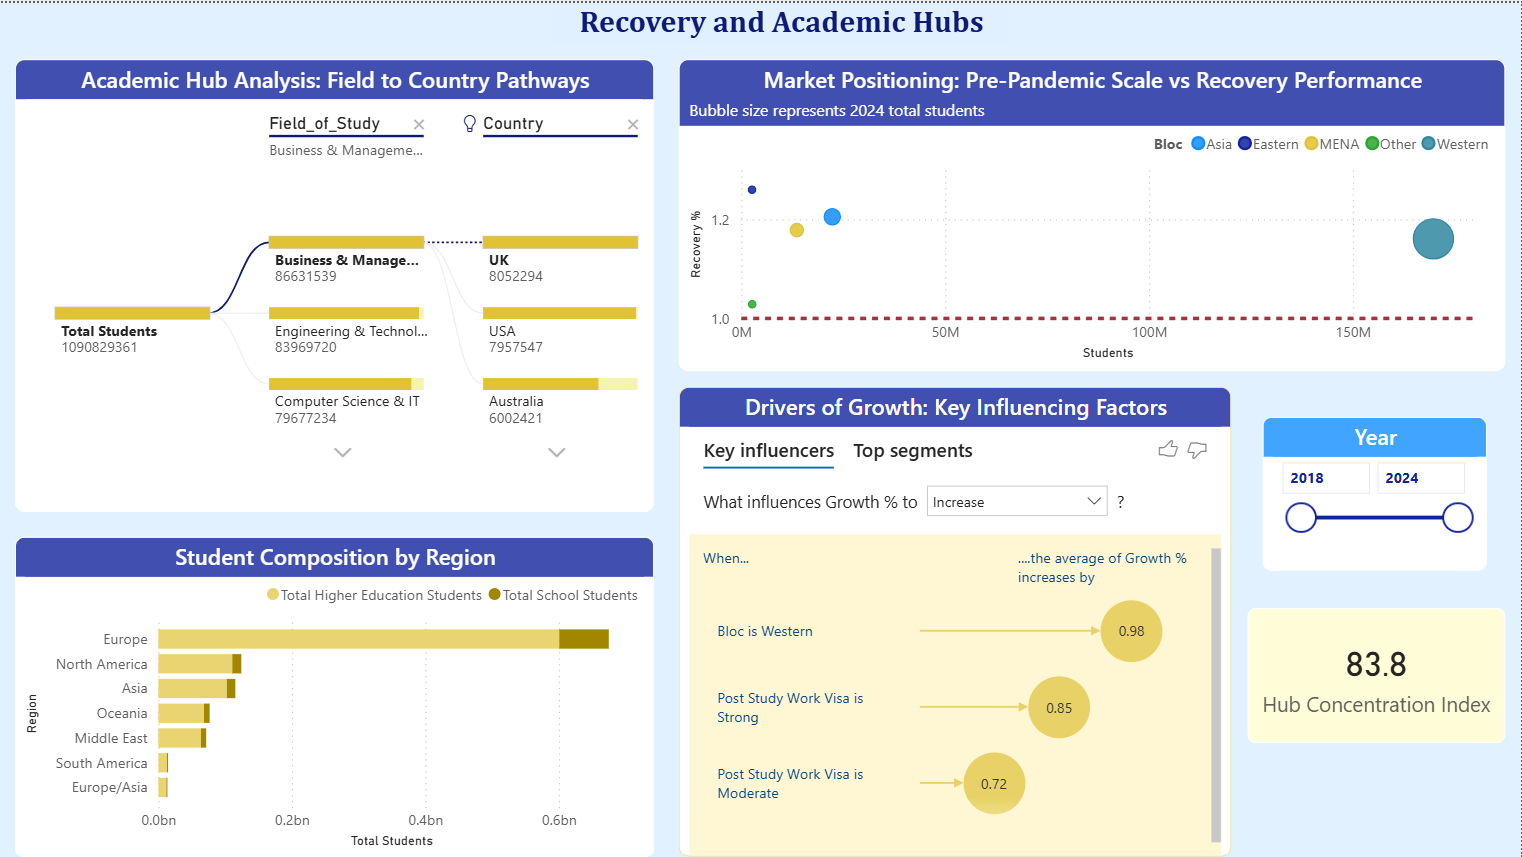

What the dashboard file says about the page in this screenshot:
{"tool":"powerbi","page":{"name":"Recovery and Academic Hubs","canvas":[1280,720],"ordinal":1},"visuals":[{"type":"scatterChart","title":"Market Positioning: Pre-Pandemic Scale vs Recovery Performance","fields":{"Size":["cp1_clean.Total Students"],"Y":["cp1_clean.Recovery %"],"X":["Key measures.Students 2024"],"Series":["Countries.Bloc"]},"box":[570.7,47.6,695.1,262.2],"z":0},{"type":"decompositionTreeVisual","title":"Academic Hub Analysis: Field to Country Pathways","fields":{"ExplainBy":["Fields.Field_of_Study","Countries.Country"],"Analyze":["cp1_clean.Total Students"]},"box":[12.5,47.2,537.5,380.6],"z":1000},{"type":"keyDriversVisual","title":"Drivers of Growth: Key Influencing Factors","fields":{"ExplainBy":["Countries.Post Study Work Visa","Fields.Field_of_Study","Countries.Bloc"],"Target":["cp1_clean.Growth %"]},"box":[570.7,323.2,464.6,396.3],"z":2000},{"type":"card","fields":{"Values":["cp1_clean.Hub Concentration Ratio"]},"box":[1048.8,508.5,217.1,113.4],"z":3000},{"type":"barChart","title":"Student Composition by Region","fields":{"Category":["Countries.Region"],"Y":["Sum(cp1_clean.Higher_Ed_Students)","Sum(cp1_clean.School_Students)"]},"box":[12.2,448.8,537.8,270.7],"z":4000},{"type":"textbox","title":"Recovery and Academic Hubs","box":[465.3,0,383.3,33.3],"z":5000},{"type":"slicer","title":"Year","fields":{"Values":["cp1_clean.Year"]},"box":[1062.2,347.6,189,129.3],"z":6000}]}

Visuals, with their boxes in screenshot pixels (x1, y1, x2, y2), scaled from the page's 1280x720 canvas onto the 1522x857 screenshot:
"Market Positioning: Pre-Pandemic Scale vs Recovery Performance" scatterChart: box=[679, 57, 1505, 369]
"Academic Hub Analysis: Field to Country Pathways" decompositionTreeVisual: box=[15, 56, 654, 509]
"Drivers of Growth: Key Influencing Factors" keyDriversVisual: box=[679, 385, 1231, 856]
card - cp1_clean.Hub Concentration Ratio: box=[1247, 605, 1505, 740]
"Student Composition by Region" barChart: box=[15, 534, 654, 856]
"Recovery and Academic Hubs" textbox: box=[553, 0, 1009, 40]
"Year" slicer: box=[1263, 414, 1488, 568]
